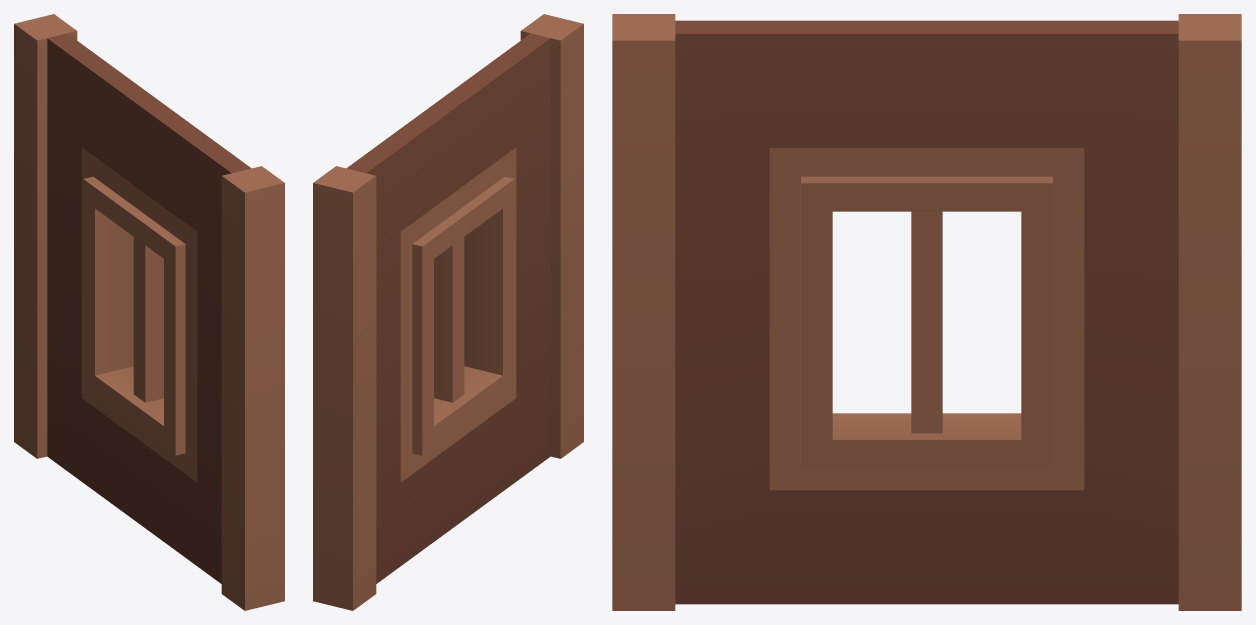
File: town-wall-wood-window-shutters.glb
3 views of the same model, side by side, from view 1: azimuth 30°, elevation 25°; view 2: azimuth 150°, elevation 25°; view 3: azimuth 270°, elevation 25° (orthographic). The views are drawn at different scales.
Parts seen in each view (by area): view 1: town-wall-wood-window-shutters; view 2: town-wall-wood-window-shutters; view 3: town-wall-wood-window-shutters.
Boxes of the visible parts, x1,y1,x2,y2 form: town-wall-wood-window-shutters: (14, 14, 284, 610); town-wall-wood-window-shutters: (313, 14, 583, 610); town-wall-wood-window-shutters: (612, 14, 1241, 610).
Bounding box in the file's own units: 0.1 × 1 × 1.
